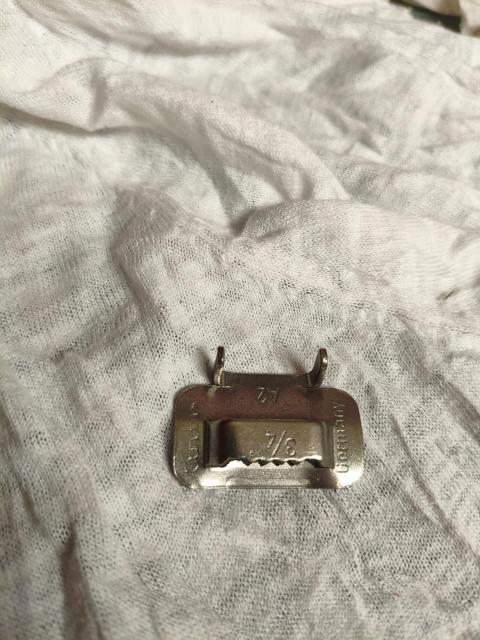Metal: (172, 348, 362, 490)
